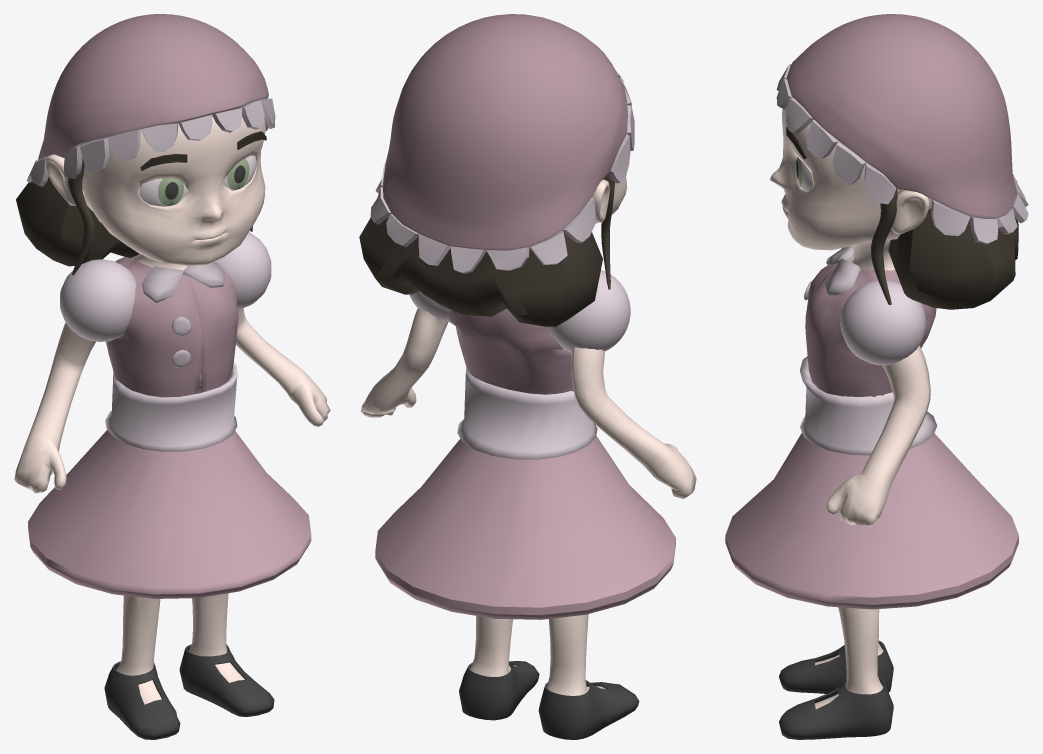
Rendered from Jane 1.1.fbx.
3 renders of one model, left to right at view 1: azimuth 30°, elevation 25°; view 2: azimuth 150°, elevation 25°; view 3: azimuth 270°, elevation 25°, orthographic. The views are drawn at different scales.
Visible parts, largest first — view 1: Jane_Dress, Jane_Body, Jane_Clothes4, Jane_Clothes2.001, Jane_Clothes3, Jane_Clothes1, Jane_Shoes, Jane_Hair1, Jane_Hair2, Jene_EyesL.001, Jene_EyesL, Jane_Eyebrows; view 2: Jane_Clothes4, Jane_Dress, Jane_Body, Jane_Hair1, Jane_Clothes1, Jane_Clothes2.001, Jane_Shoes, Jane_Clothes3, Jane_Hair2; view 3: Jane_Clothes4, Jane_Dress, Jane_Body, Jane_Hair1, Jane_Clothes2.001, Jane_Shoes, Jane_Clothes3, Jane_Clothes1, Jane_Hair2.
Boxes of the visible parts, x1,y1,x2,y2 form: Jane_Dress: [28, 430, 311, 598]; Jane_Body: [14, 116, 330, 704]; Jane_Clothes4: [26, 14, 275, 186]; Jane_Clothes2.001: [106, 254, 238, 397]; Jane_Clothes3: [60, 232, 271, 341]; Jane_Clothes1: [105, 362, 237, 451]; Jane_Shoes: [104, 644, 274, 739]; Jane_Hair1: [16, 176, 138, 266]; Jane_Hair2: [67, 157, 252, 275]; Jene_EyesL.001: [139, 178, 188, 206]; Jene_EyesL: [222, 156, 256, 190]; Jane_Eyebrows: [140, 131, 266, 170]; Jane_Clothes4: [370, 14, 634, 273]; Jane_Dress: [375, 436, 675, 619]; Jane_Body: [360, 177, 696, 695]; Jane_Hair1: [359, 217, 602, 326]; Jane_Clothes1: [457, 368, 597, 459]; Jane_Clothes2.001: [447, 308, 573, 394]; Jane_Shoes: [459, 661, 639, 739]; Jane_Clothes3: [409, 270, 630, 352]; Jane_Hair2: [601, 173, 614, 289]; Jane_Clothes4: [776, 14, 1028, 244]; Jane_Dress: [725, 433, 1018, 609]; Jane_Body: [770, 106, 931, 709]; Jane_Hair1: [888, 208, 1018, 309]; Jane_Clothes2.001: [804, 246, 936, 396]; Jane_Shoes: [779, 640, 893, 739]; Jane_Clothes3: [840, 247, 925, 365]; Jane_Clothes1: [800, 356, 937, 455]; Jane_Hair2: [871, 188, 897, 304].
Size of the model in its own units: 76.95 by 157 by 63.07.
